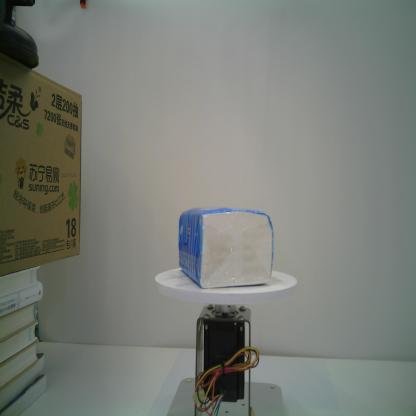Tissue: (177, 204, 275, 288)
